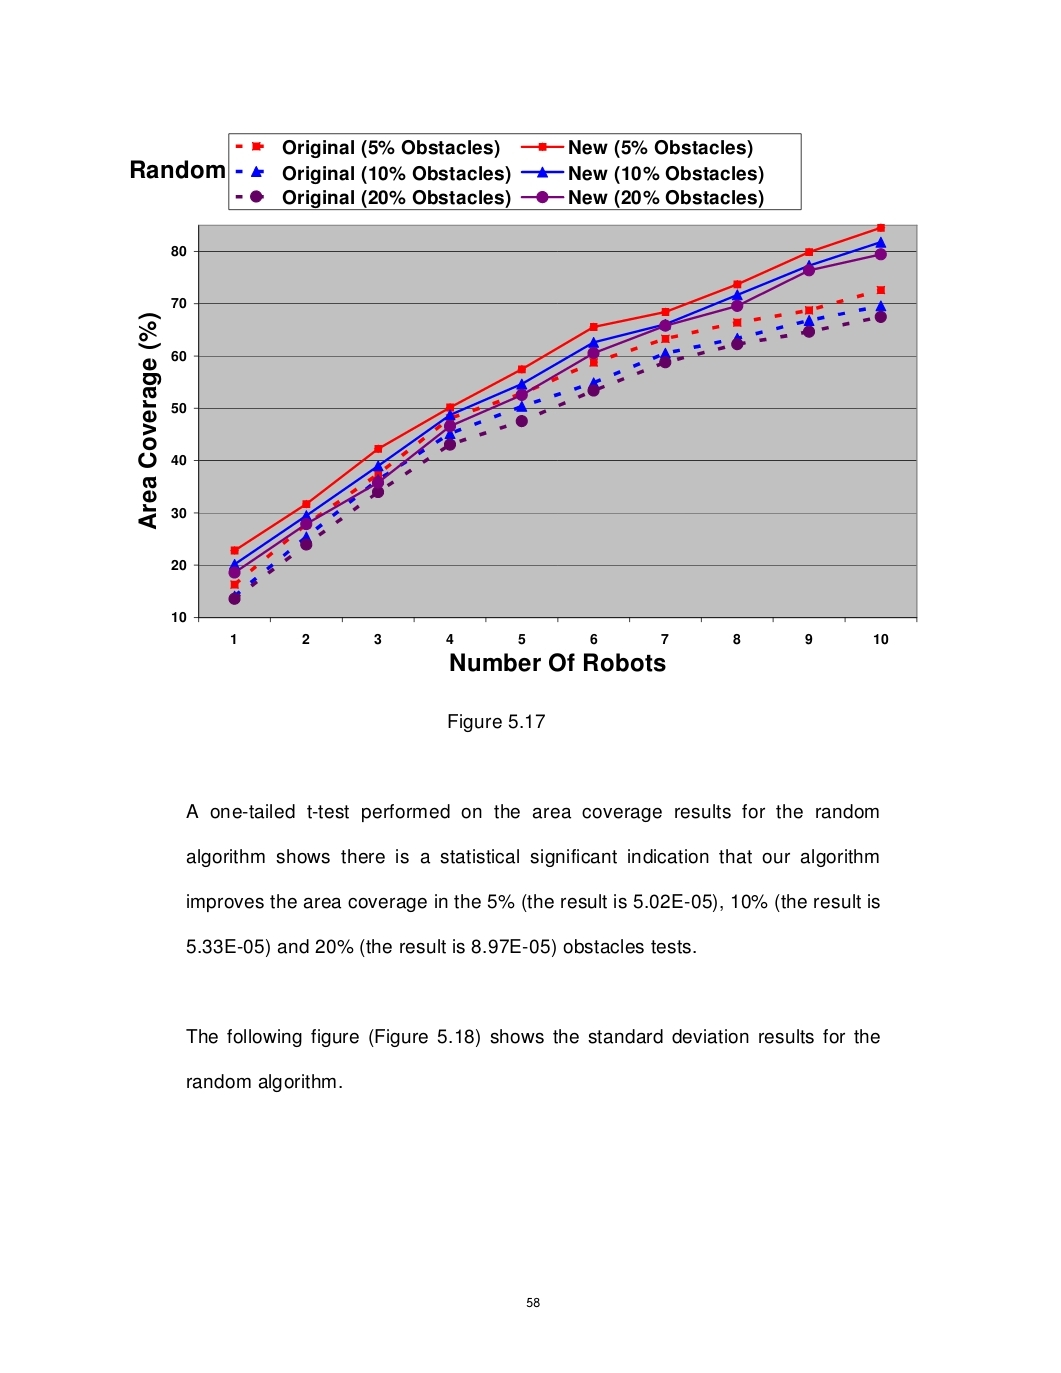figure: (130, 133, 917, 671)
